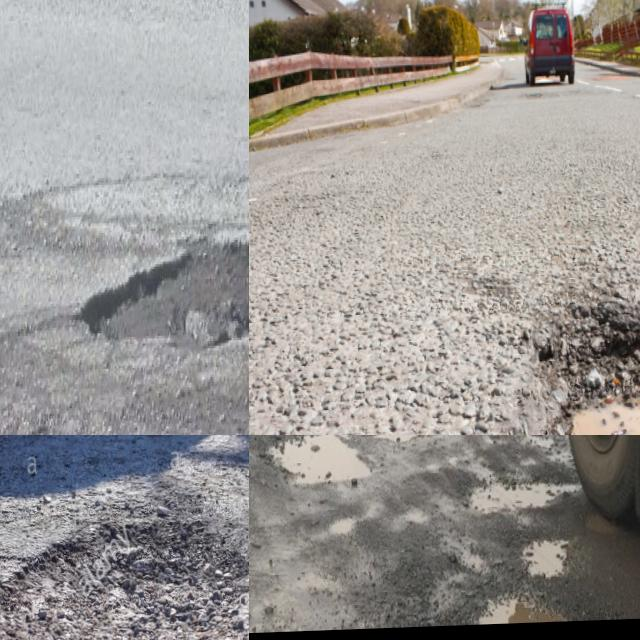Potholes: (0, 458, 249, 640), (63, 154, 249, 389), (509, 247, 640, 435), (406, 513, 562, 630), (455, 458, 614, 551), (269, 435, 390, 515)
